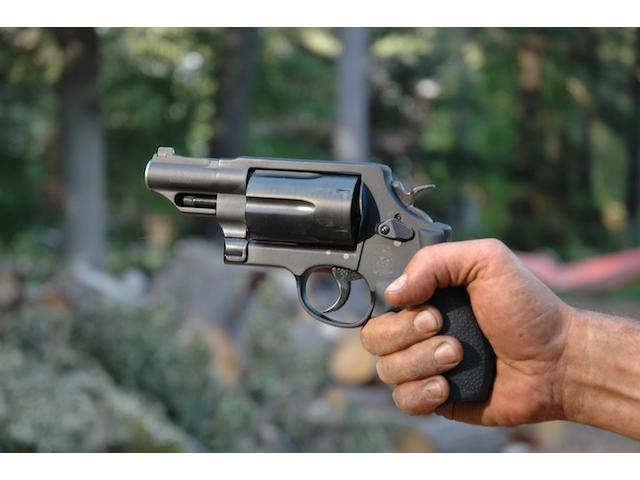pistol: (139, 142, 498, 411)
